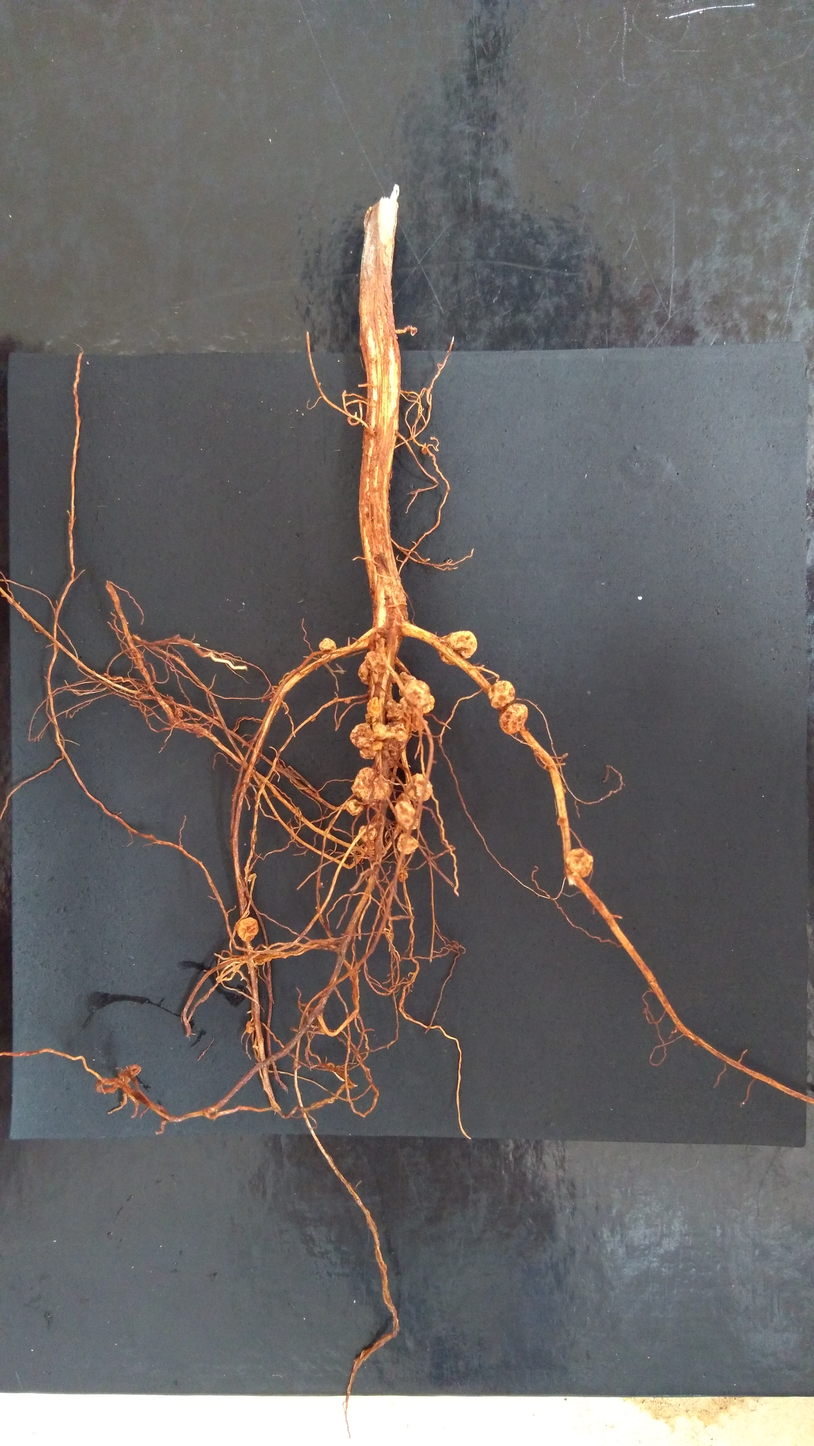nodule: (351, 766, 392, 805), (437, 630, 477, 665), (499, 703, 528, 734), (566, 847, 594, 878), (488, 680, 516, 710), (405, 772, 433, 802), (394, 800, 419, 830), (403, 679, 430, 706), (400, 694, 434, 715), (381, 737, 404, 768), (235, 916, 259, 942), (350, 723, 374, 748), (363, 650, 389, 673), (397, 672, 417, 698), (385, 721, 409, 742), (397, 833, 419, 855), (385, 699, 404, 721), (357, 659, 372, 686), (366, 696, 382, 717), (358, 825, 377, 842), (411, 714, 428, 732), (346, 799, 363, 816), (372, 721, 387, 740), (319, 637, 336, 653), (395, 793, 413, 808), (359, 746, 376, 760), (306, 1014, 321, 1029), (127, 1064, 142, 1078), (117, 1068, 132, 1082), (398, 865, 409, 882), (131, 647, 144, 658), (373, 740, 384, 751), (245, 1020, 254, 1033), (246, 873, 257, 882), (366, 839, 375, 849), (293, 1060, 302, 1070), (174, 707, 183, 717), (421, 446, 428, 455), (326, 1062, 335, 1068), (557, 816, 563, 825), (344, 698, 352, 704), (167, 695, 174, 700), (346, 416, 352, 421), (320, 882, 323, 886)
